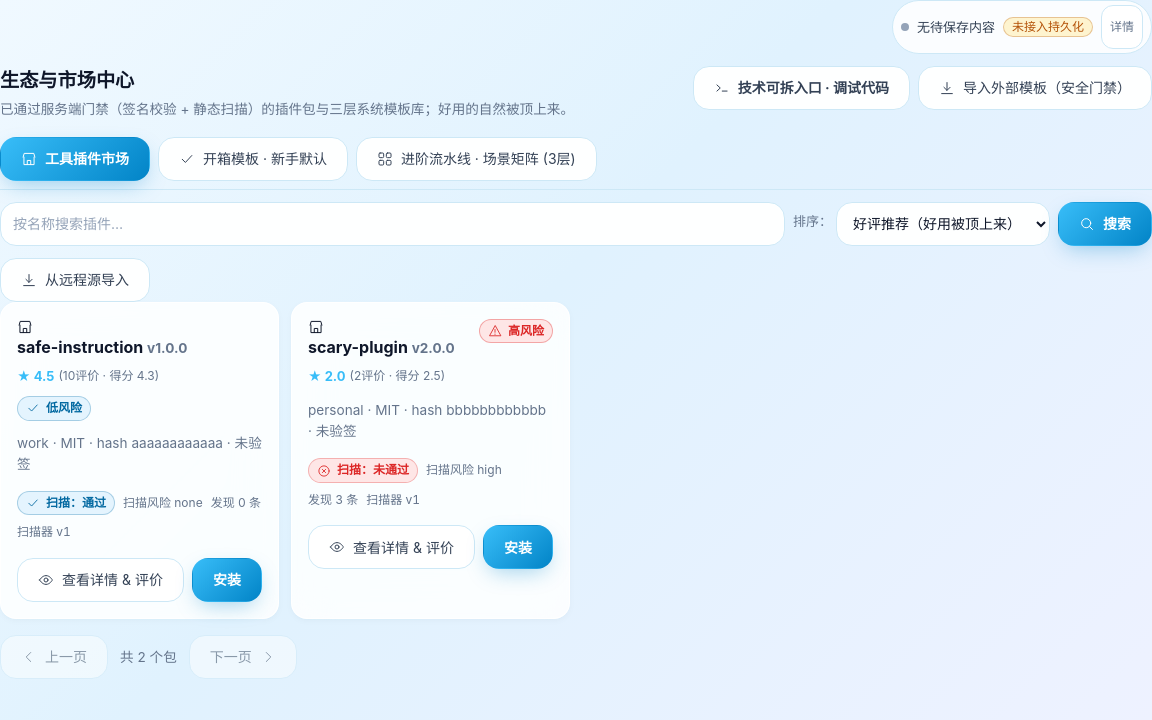
Test: PluginMarketPage 详情与安装 › plugin 包安装要求输入授权 ID 并随请求发送
Click the button with test id "plugin-detail-sk-high". click: (391, 548)
box: [308, 526, 475, 570]
(page scrolled)
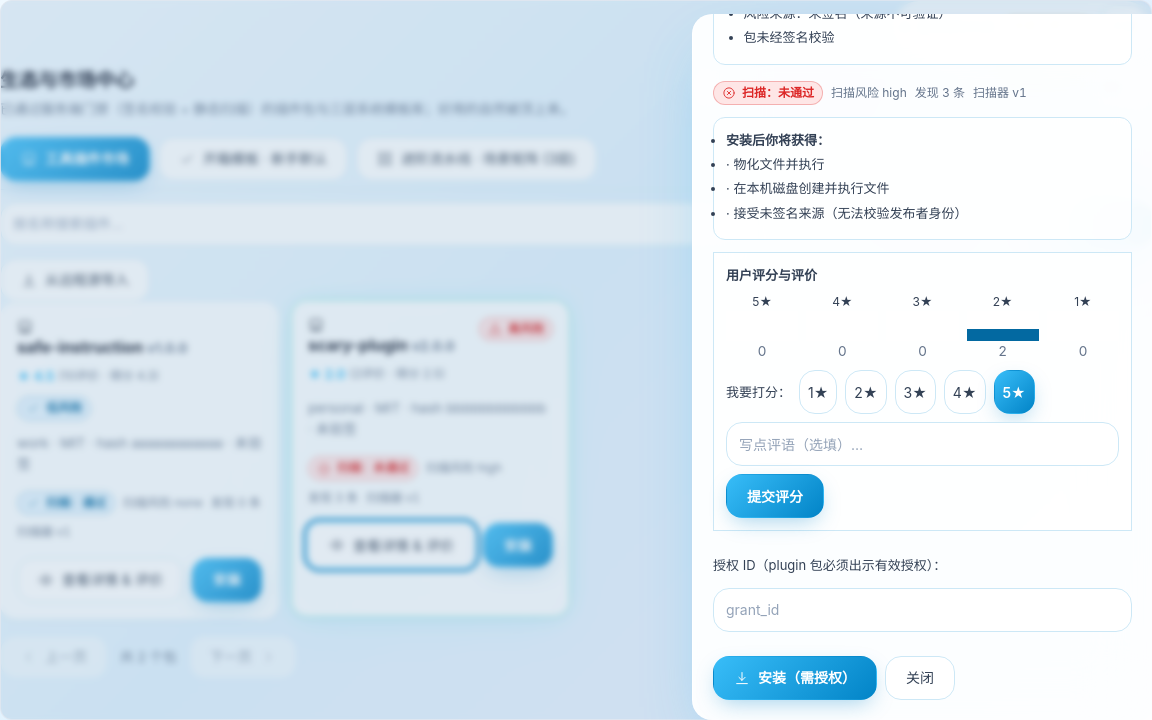
Type "g-1" into the field with test id "plugin-grant-input". click: (922, 610)
box: [713, 588, 1132, 632]
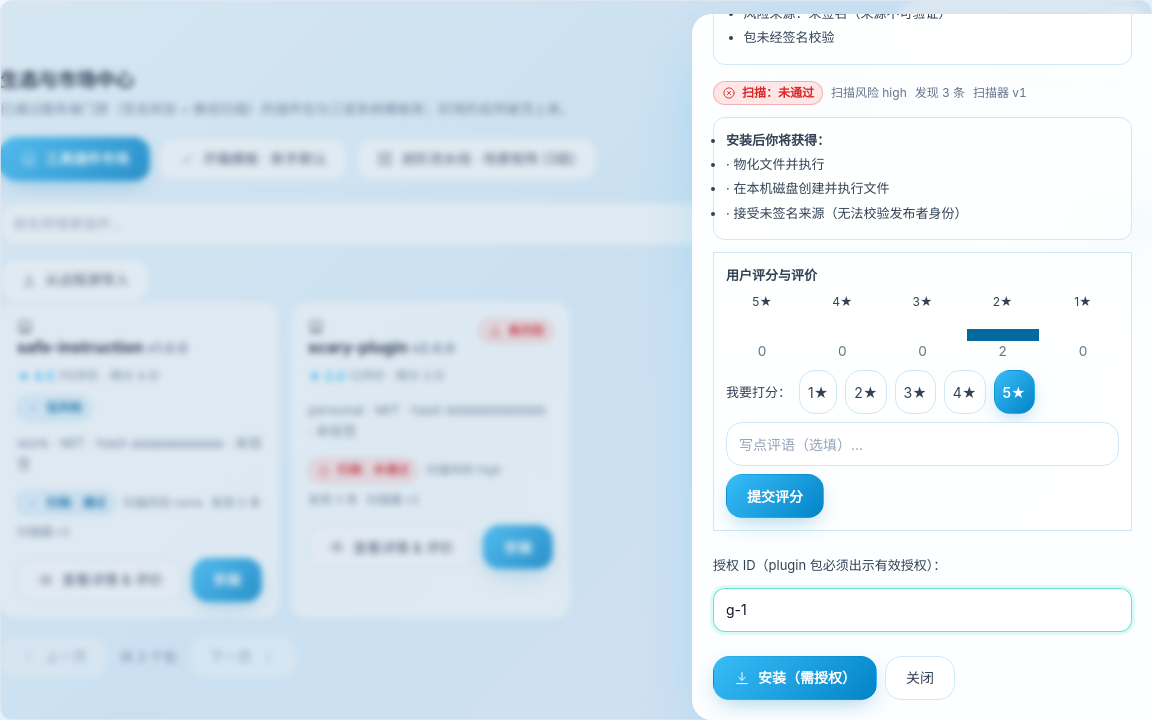
Click the button with test id "plugin-detail-install". click: (795, 678)
box: [713, 656, 877, 700]
(page scrolled)
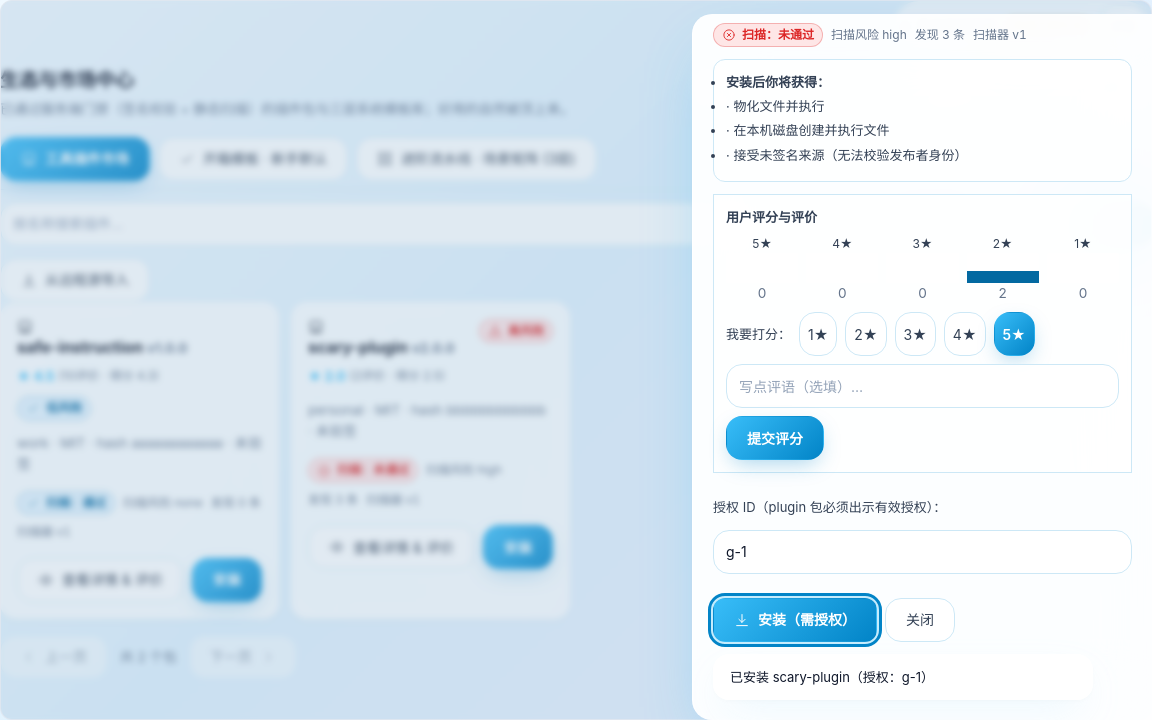
Now the message with test id "plugin-install-note" shows "已安装", box [730, 669, 934, 685]
